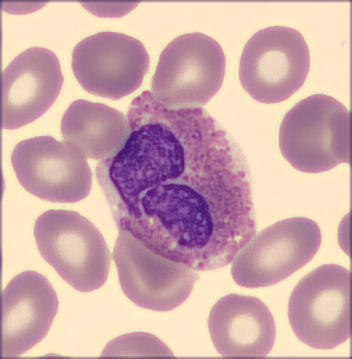EO: (89, 93, 261, 273)
RBC: (112, 229, 197, 310), (31, 206, 110, 292), (274, 90, 352, 175), (231, 217, 323, 288), (148, 31, 225, 110), (288, 261, 352, 354), (10, 134, 93, 203), (240, 26, 311, 103), (1, 268, 60, 359), (1, 45, 63, 131), (71, 30, 147, 98), (205, 291, 275, 359), (59, 101, 128, 160), (96, 329, 184, 359), (323, 110, 352, 167)
